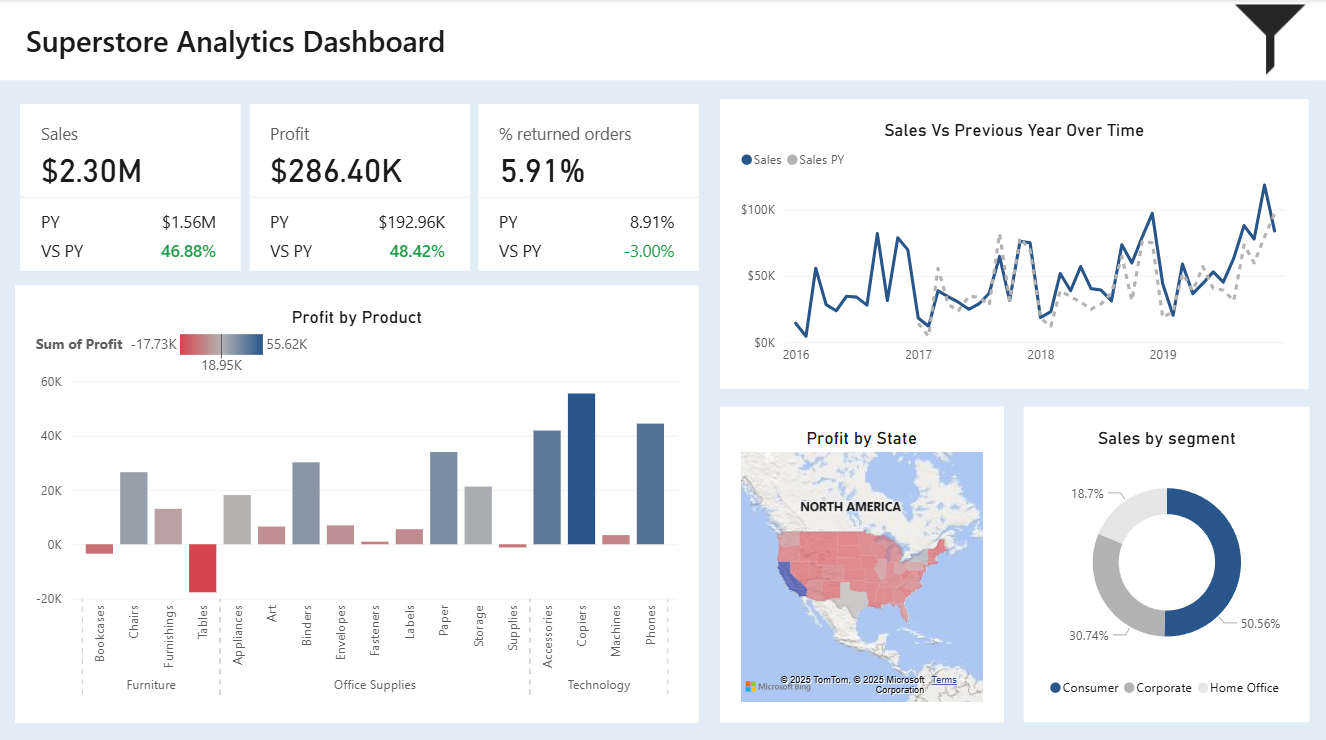

What the dashboard file says about the page in this screenshot:
{"tool":"powerbi","page":{"name":"Page 1","canvas":[1280,720],"ordinal":0},"visuals":[{"type":"cardVisual","fields":{"Data":["Key measures.Sales","Key measures.Profit","Key measures.% returned orders"]},"box":[15,96.2,665,171.2],"z":0},{"type":"shape","box":[0,0,1280,78.4],"z":1000},{"type":"lineChart","title":"Sales Vs Previous Year Over Time","fields":{"Y":["Key measures.Sales","Key measures.Sales PY"],"Category":["Date Table.start of month"]},"box":[694.9,96.5,568.2,279.9],"z":2000},{"type":"columnChart","title":"Profit by Product","fields":{"Category":["Orders.Category","Orders.Sub-Category"],"Y":["Sum(Orders.Profit)"]},"box":[15,276.2,660,422.5],"z":3000},{"type":"filledMap","title":"Profit by State","fields":{"Category":["Orders.State"]},"box":[695,393.8,273.8,305],"z":4000},{"type":"donutChart","title":"Sales by segment","fields":{"Category":["Orders.Segment"],"Y":["Key measures.Sales"]},"box":[987.5,393.8,276.2,305],"z":6000},{"type":"actionButton","title":"filter","box":[1190,0,72.9,78.6],"z":7500}]}

Visuals, with their boxes in screenshot pixels (x1, y1, x2, y2), scaled from the page's 1280x720 canvas onto the 1326x740 screenshot:
cardVisual - Key measures.Sales x Key measures.Profit: crop(16, 99, 704, 275)
shape: crop(0, 0, 1325, 81)
"Sales Vs Previous Year Over Time" lineChart: crop(720, 99, 1308, 387)
"Profit by Product" columnChart: crop(16, 284, 699, 718)
"Profit by State" filledMap: crop(720, 405, 1004, 718)
"Sales by segment" donutChart: crop(1023, 405, 1309, 718)
"filter" actionButton: crop(1233, 0, 1308, 81)
